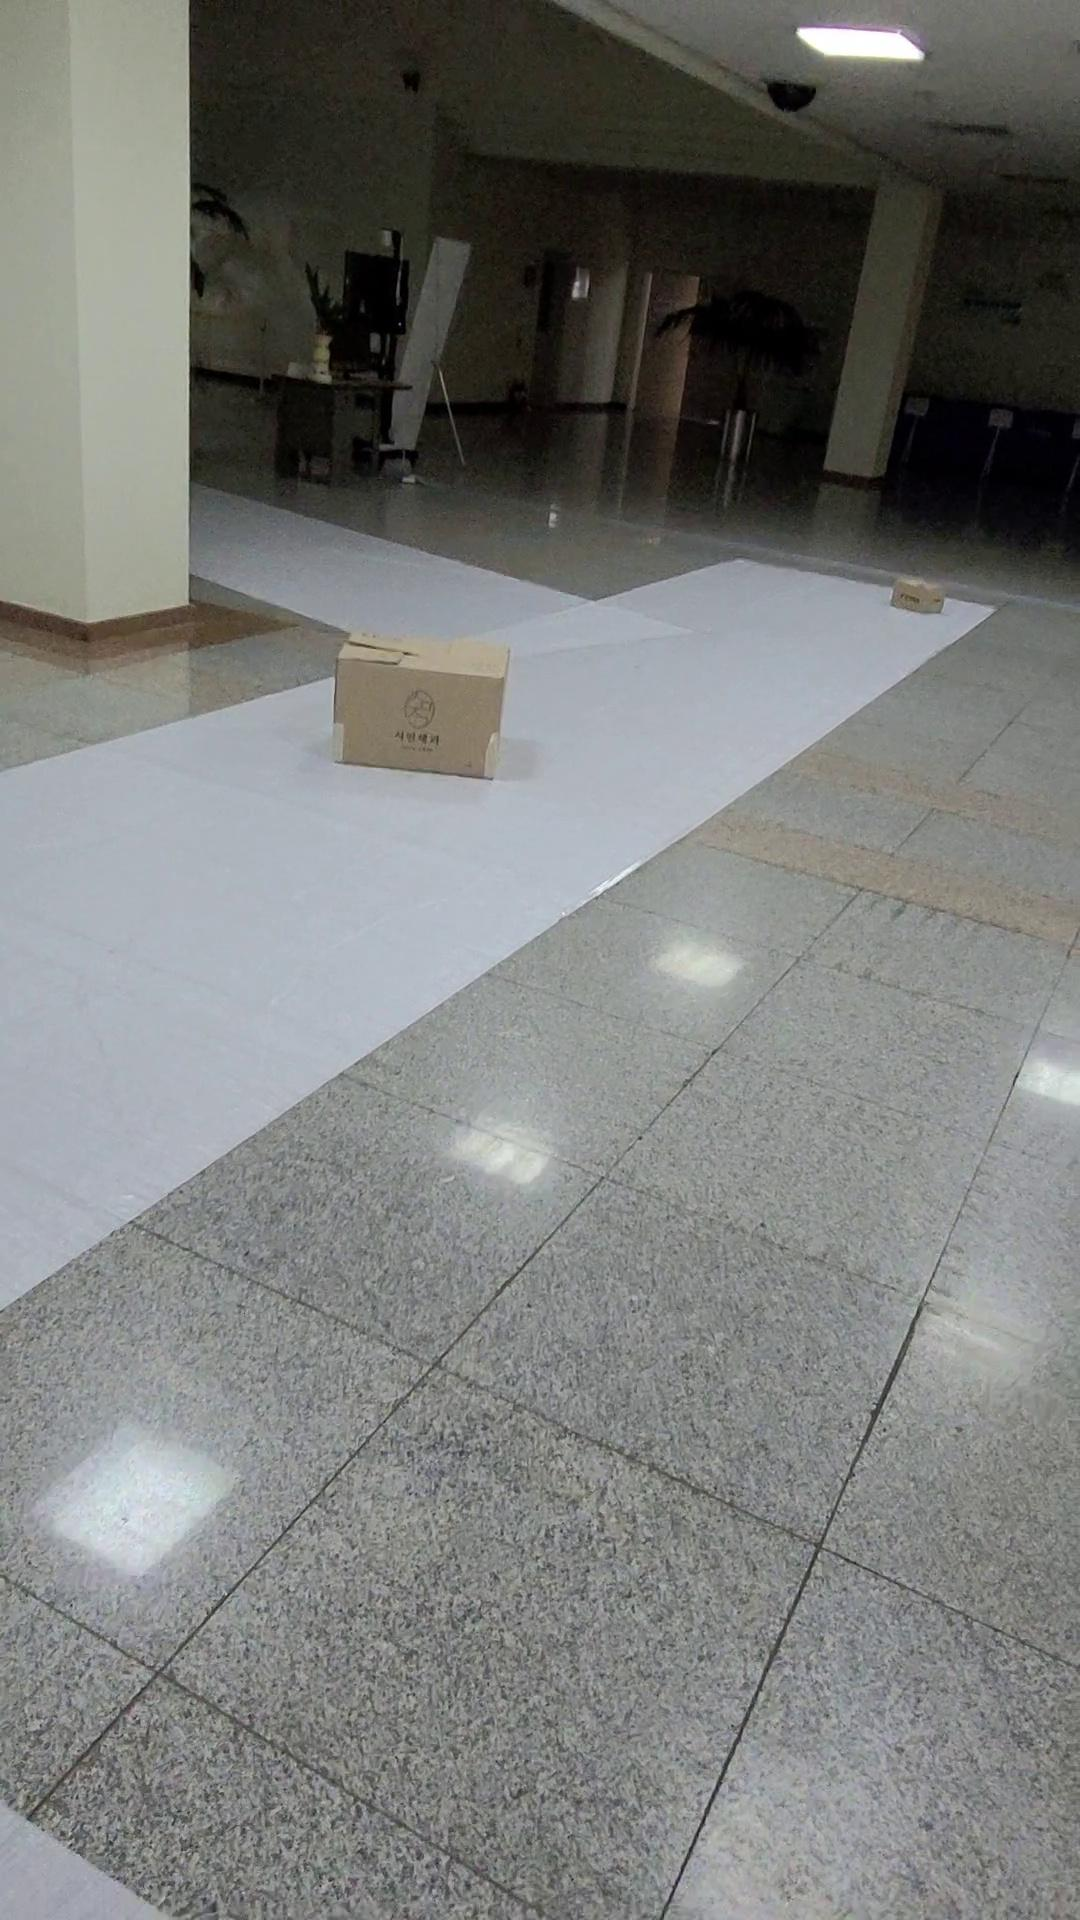Box: (318, 603, 531, 795), (878, 563, 953, 622)
